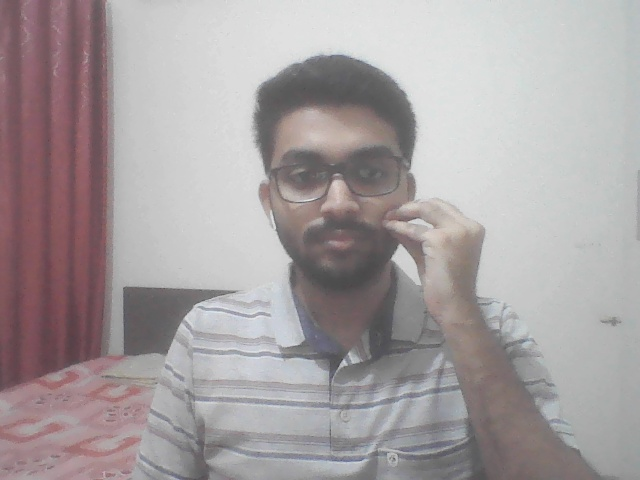home: (374, 192, 494, 354)
